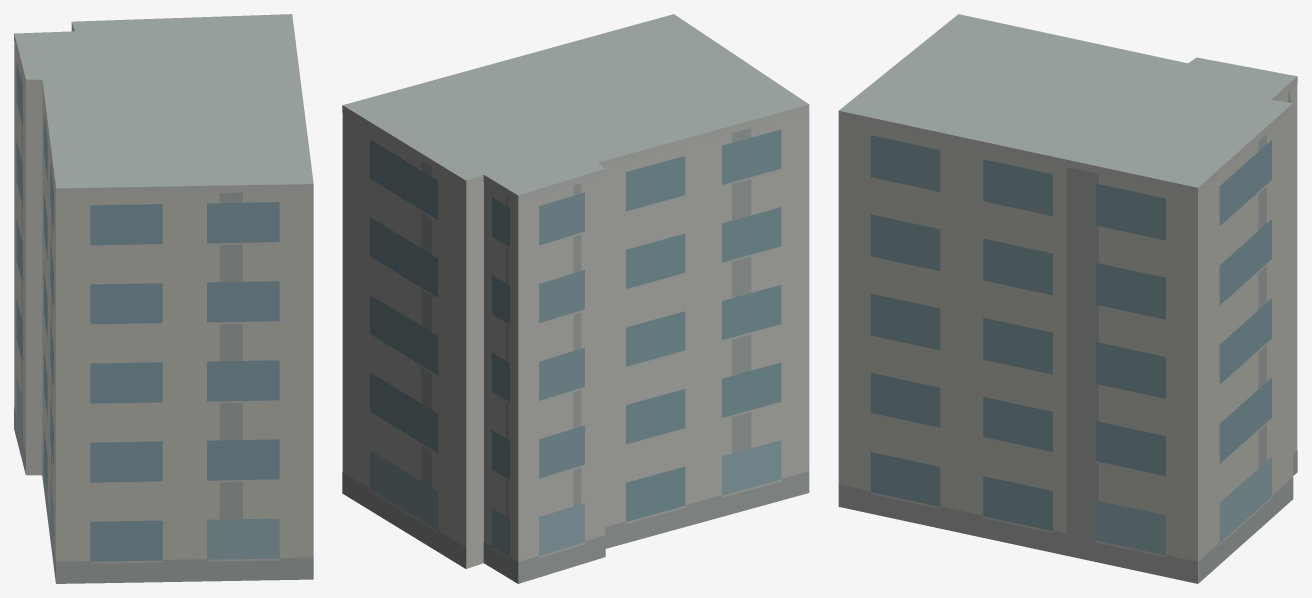
The model's file is survey-upis-32727961.glb.
The picture shows the model from 3 angles, left to right: view 1: azimuth 30°, elevation 25°; view 2: azimuth 150°, elevation 25°; view 3: azimuth 270°, elevation 25°; orthographic projection.
Visible parts, largest first — view 1: survey-upis-32727961.tmp; view 2: survey-upis-32727961.tmp; view 3: survey-upis-32727961.tmp.
Boxes of the visible parts, bbox=[...] form: survey-upis-32727961.tmp: bbox=[14, 14, 313, 583]; survey-upis-32727961.tmp: bbox=[342, 14, 809, 583]; survey-upis-32727961.tmp: bbox=[838, 14, 1297, 583].
Bounding box in the file's own units: 12.06 × 12.8 × 13.45.
